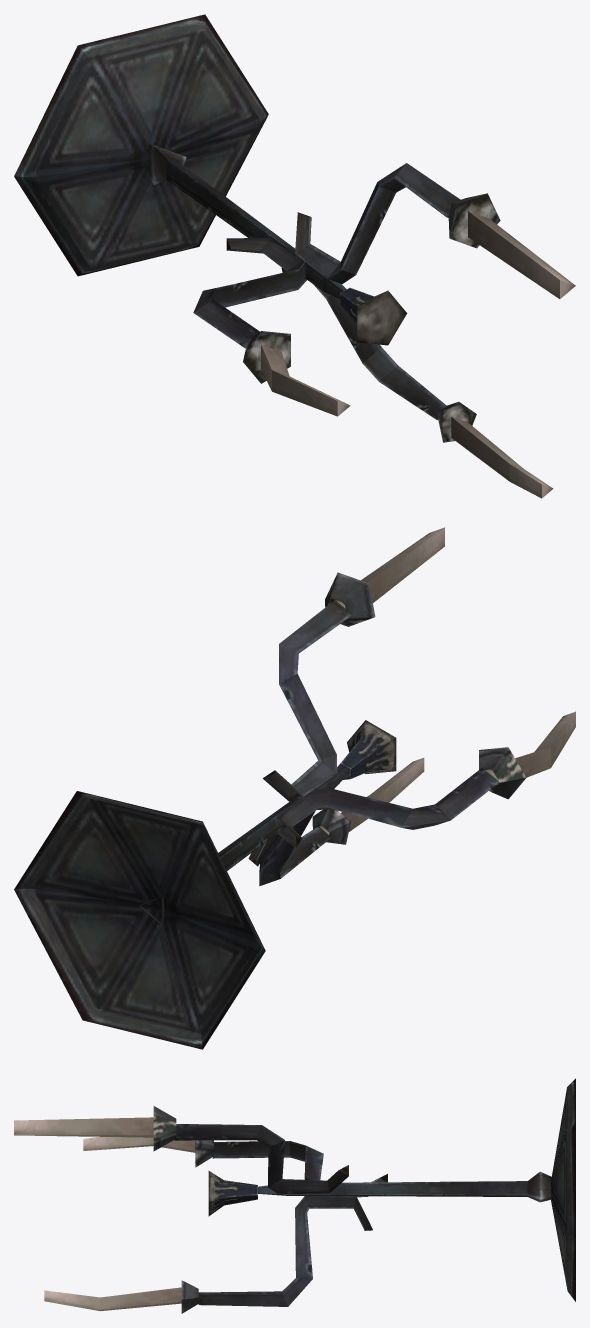
File: tanxian_fuben_257_canting_zhutai_02.obj
3 renders of one model, top to bottom at view 1: azimuth 30°, elevation 25°; view 2: azimuth 150°, elevation 25°; view 3: azimuth 270°, elevation 25°, orthographic. The views are drawn at different scales.
Visible parts, largest first — view 1: tanxian_fuben_257_canting_zhutai_02; view 2: tanxian_fuben_257_canting_zhutai_02; view 3: tanxian_fuben_257_canting_zhutai_02.
Part boxes in pixels (bbox=[...]): tanxian_fuben_257_canting_zhutai_02: bbox=[14, 14, 575, 498]; tanxian_fuben_257_canting_zhutai_02: bbox=[14, 527, 575, 1049]; tanxian_fuben_257_canting_zhutai_02: bbox=[14, 1078, 575, 1313].
Bounding box in the file's own units: 16.5 × 15.05 × 38.16.
1 material, 1 textured.
